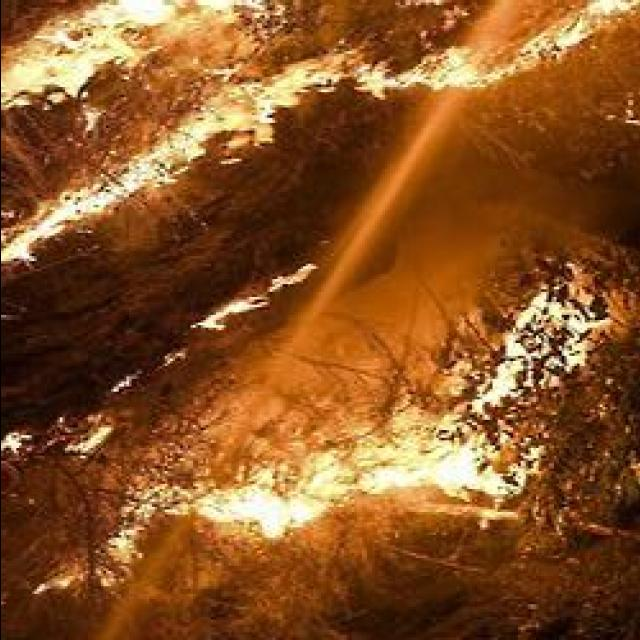fire: (0, 0, 274, 146), (294, 0, 640, 108), (200, 418, 498, 542)
